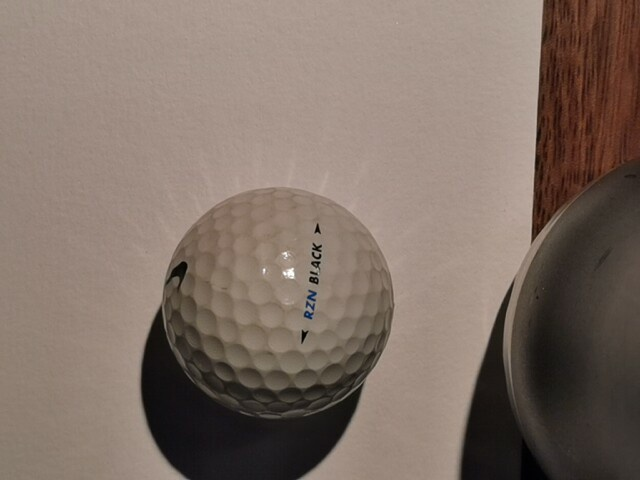Ball: (162, 186, 395, 420)
